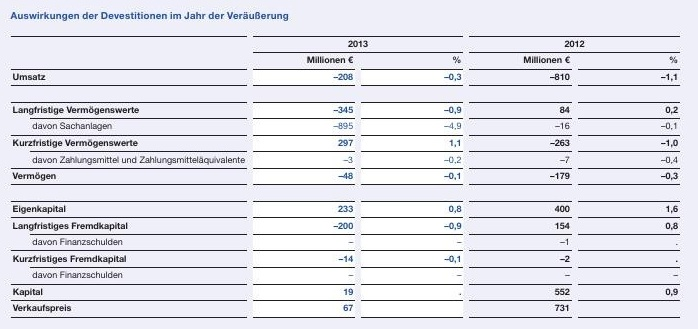table: (0, 0, 698, 329)
